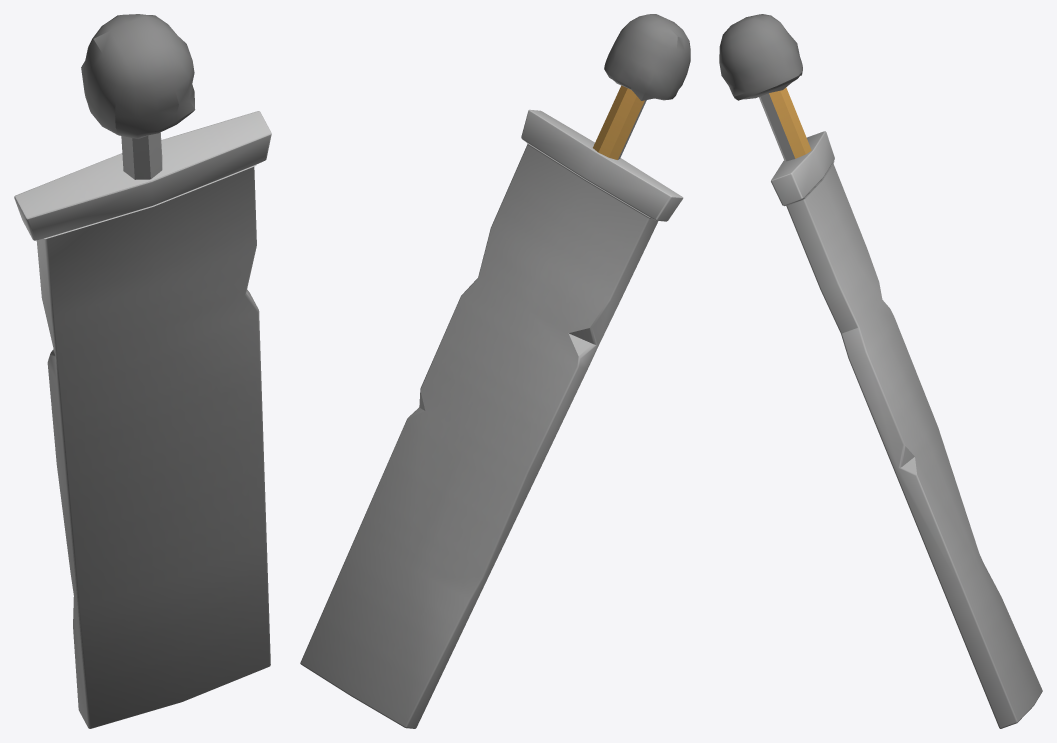
Rendered from Sword+2.fbx.
The picture shows the model from 3 angles, left to right: view 1: azimuth 30°, elevation 25°; view 2: azimuth 150°, elevation 25°; view 3: azimuth 270°, elevation 25°; orthographic projection. The views are drawn at different scales.
Visible parts, largest first — view 1: Sword 2; view 2: Sword 2; view 3: Sword 2.
Part boxes in pixels (bbox=[...]): Sword 2: bbox=[14, 14, 271, 728]; Sword 2: bbox=[300, 14, 690, 728]; Sword 2: bbox=[719, 14, 1042, 728].
Size of the model in its own units: 68.32 by 151 by 69.91.
